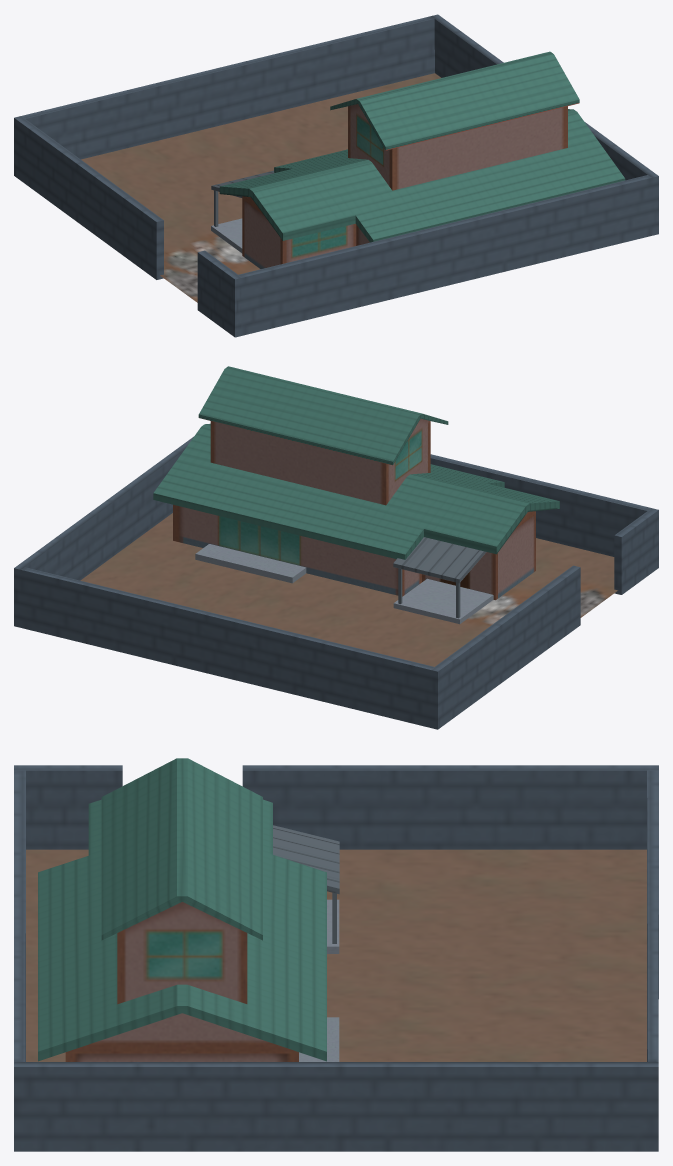
Rendered from nobi3.fbx.
3 views of the same model, one above another, from view 1: azimuth 30°, elevation 25°; view 2: azimuth 150°, elevation 25°; view 3: azimuth 270°, elevation 25° (orthographic). The views are drawn at different scales.
Parts seen in each view (by area): view 1: polySurface14, pCube50, pCube51, polySurface10, pCube53; view 2: polySurface14, pCube50, polySurface10, pCube51, pCube53, pCube54, pCube59; view 3: polySurface14, polySurface10, pCube50, pCube51, pCube54, pCube59.
Boxes of the visible parts, left/top/right/bottom form: polySurface14: left=14, top=14, right=658, bottom=337; pCube50: left=219, top=109, right=625, bottom=268; pCube51: left=330, top=51, right=579, bottom=190; polySurface10: left=81, top=73, right=440, bottom=302; pCube53: left=211, top=218, right=242, bottom=253; polySurface14: left=14, top=436, right=658, bottom=729; pCube50: left=153, top=423, right=559, bottom=600; polySurface10: left=80, top=513, right=617, bottom=666; pCube51: left=198, top=366, right=448, bottom=505; pCube53: left=393, top=578, right=493, bottom=624; pCube54: left=393, top=537, right=486, bottom=583; pCube59: left=195, top=544, right=306, bottom=583; polySurface14: left=14, top=765, right=658, bottom=1151; polySurface10: left=26, top=849, right=646, bottom=1061; pCube50: left=38, top=799, right=326, bottom=1061; pCube51: left=101, top=758, right=262, bottom=1004; pCube54: left=273, top=825, right=339, bottom=894; pCube59: left=299, top=1017, right=339, bottom=1061.
Bounding box in the file's own units: 27.86 × 9.54 × 25.17.
1 material, 1 textured.
